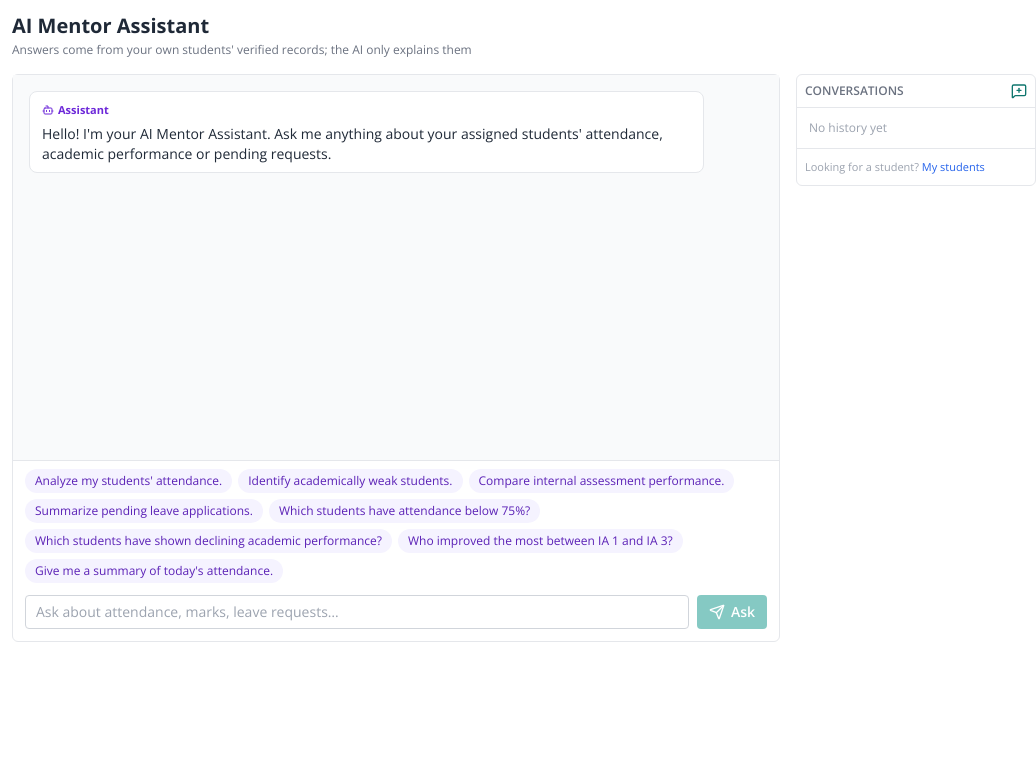
Test: AI mentor assistant › sends a suggested question and renders cards and table
Expected: the text "I'm your AI Mentor Assistant" is shown, [42, 124, 666, 163]
Click the button "Summarize pending leave applications.".
click(144, 511)  # box [25, 499, 263, 523]
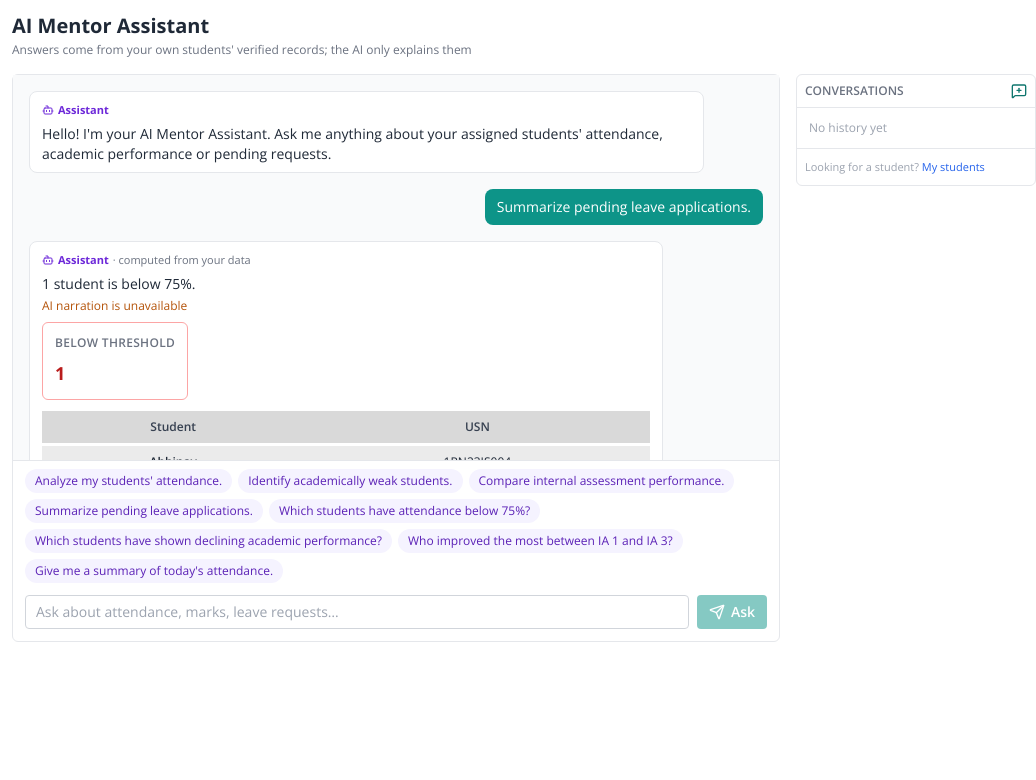
Expected: the text "1 student is below 75%." is shown, [42, 274, 196, 293]
Expected: the text "Below threshold" is shown, [55, 335, 175, 351]
